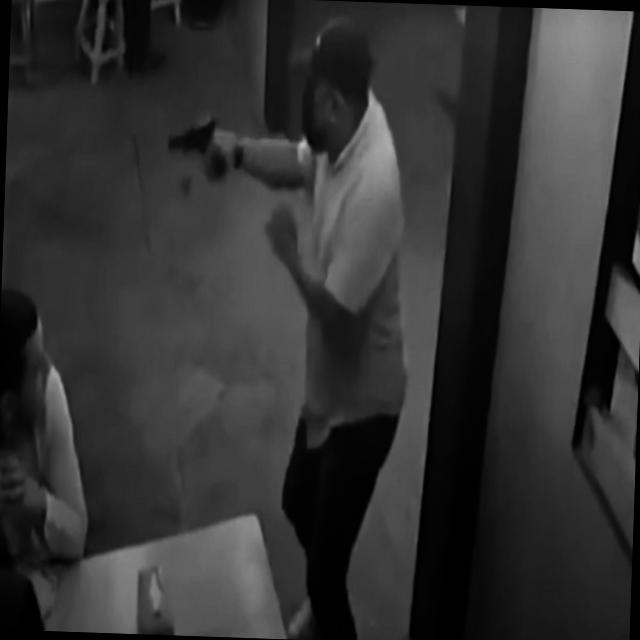gun: (168, 118, 228, 184)
person: (0, 287, 97, 568)
person with a gun: (191, 15, 419, 640)
